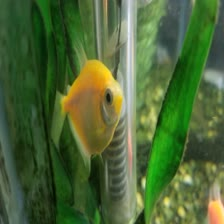Plano: (49, 43, 122, 155)
